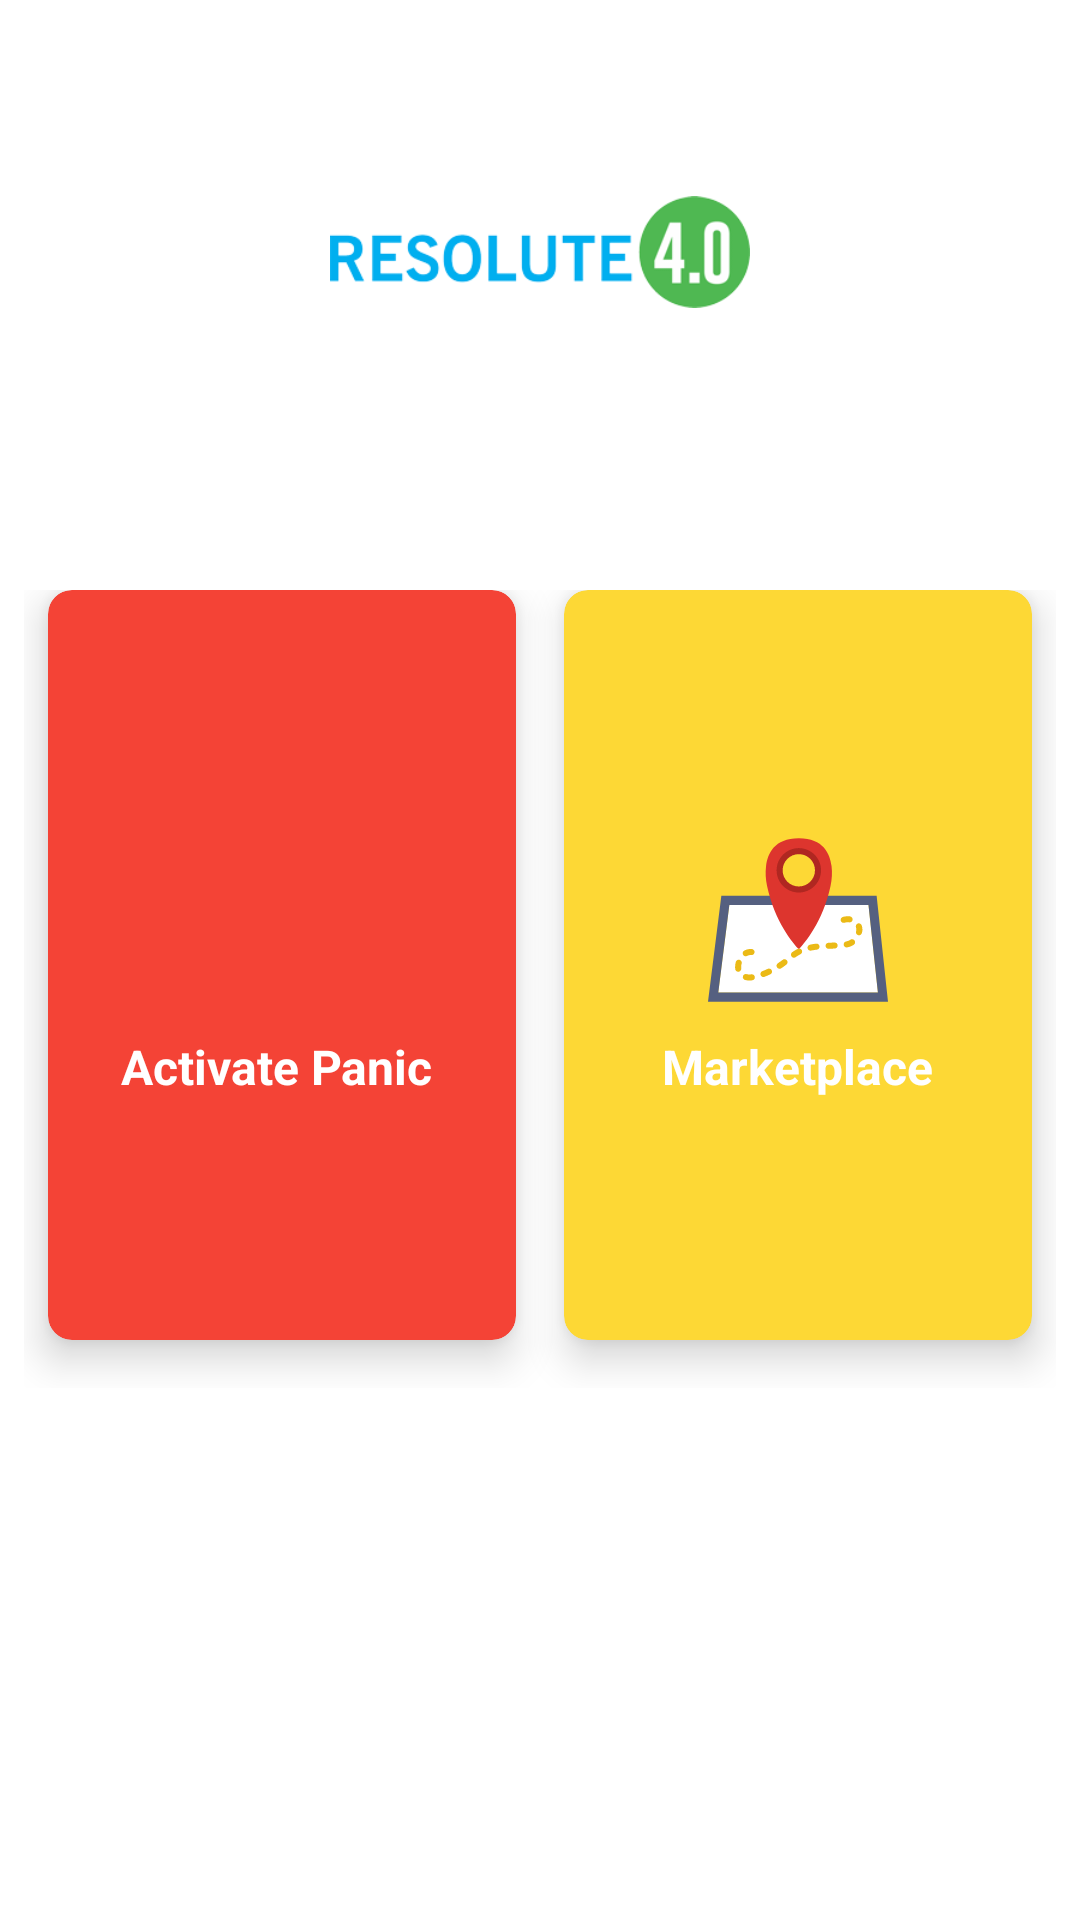

Icon click points for this 1080w x 1920h phone screenshot, format [x,y]:
map farm: [798,920]
